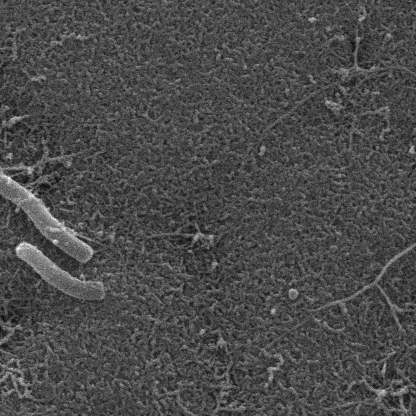cell2surface: (322, 237, 416, 308), (7, 153, 58, 180), (395, 66, 416, 126)
filament: (0, 120, 94, 263)
regular: (17, 243, 107, 301)
